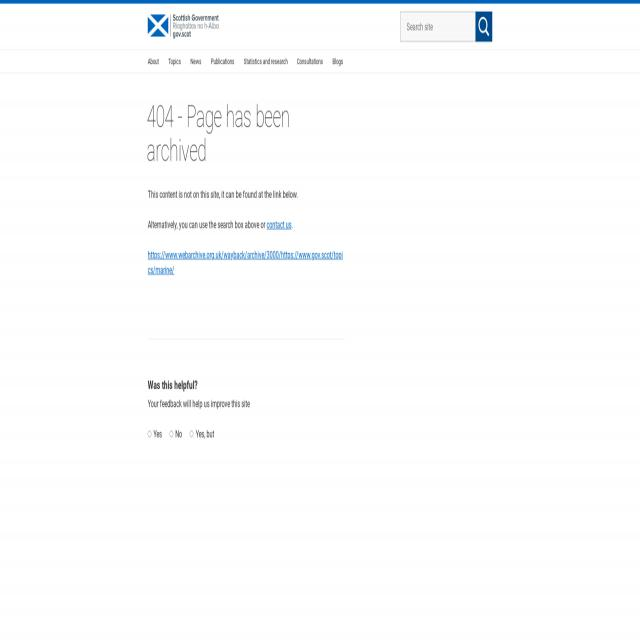button: (148, 11, 218, 42), (240, 50, 292, 73), (292, 50, 328, 73), (206, 50, 239, 73), (163, 50, 186, 73), (476, 11, 492, 42), (143, 50, 163, 73), (186, 50, 206, 73), (328, 50, 348, 73)
field: (400, 11, 476, 42), (147, 429, 152, 438), (169, 430, 174, 438), (189, 430, 194, 438)
